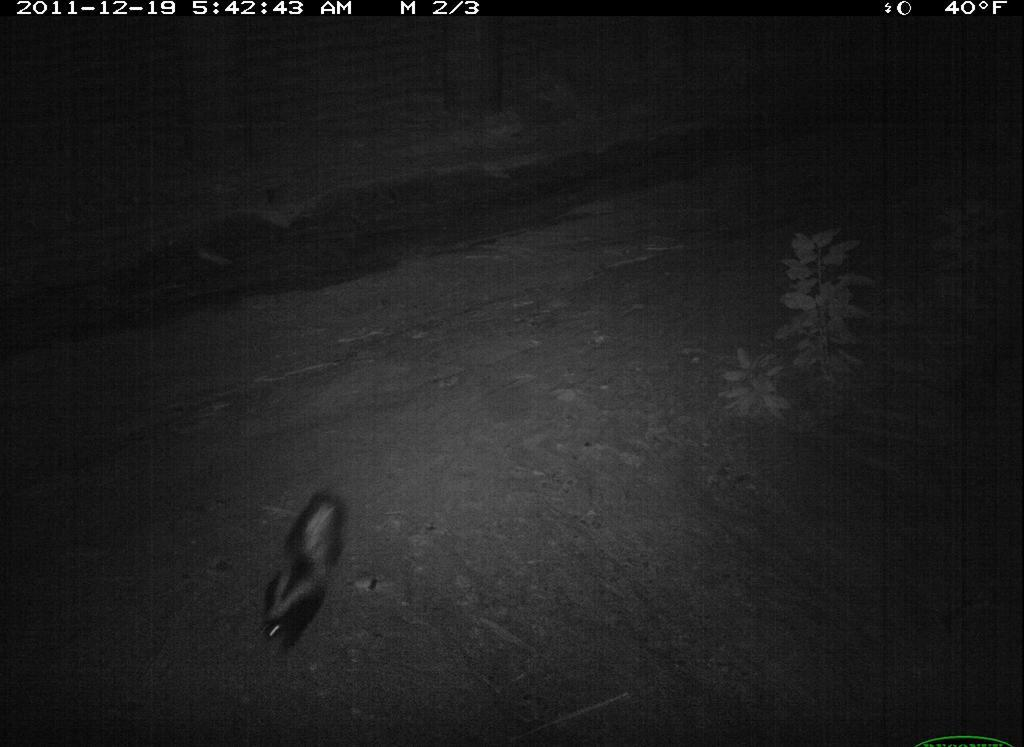skunk: (244, 486, 354, 658)
